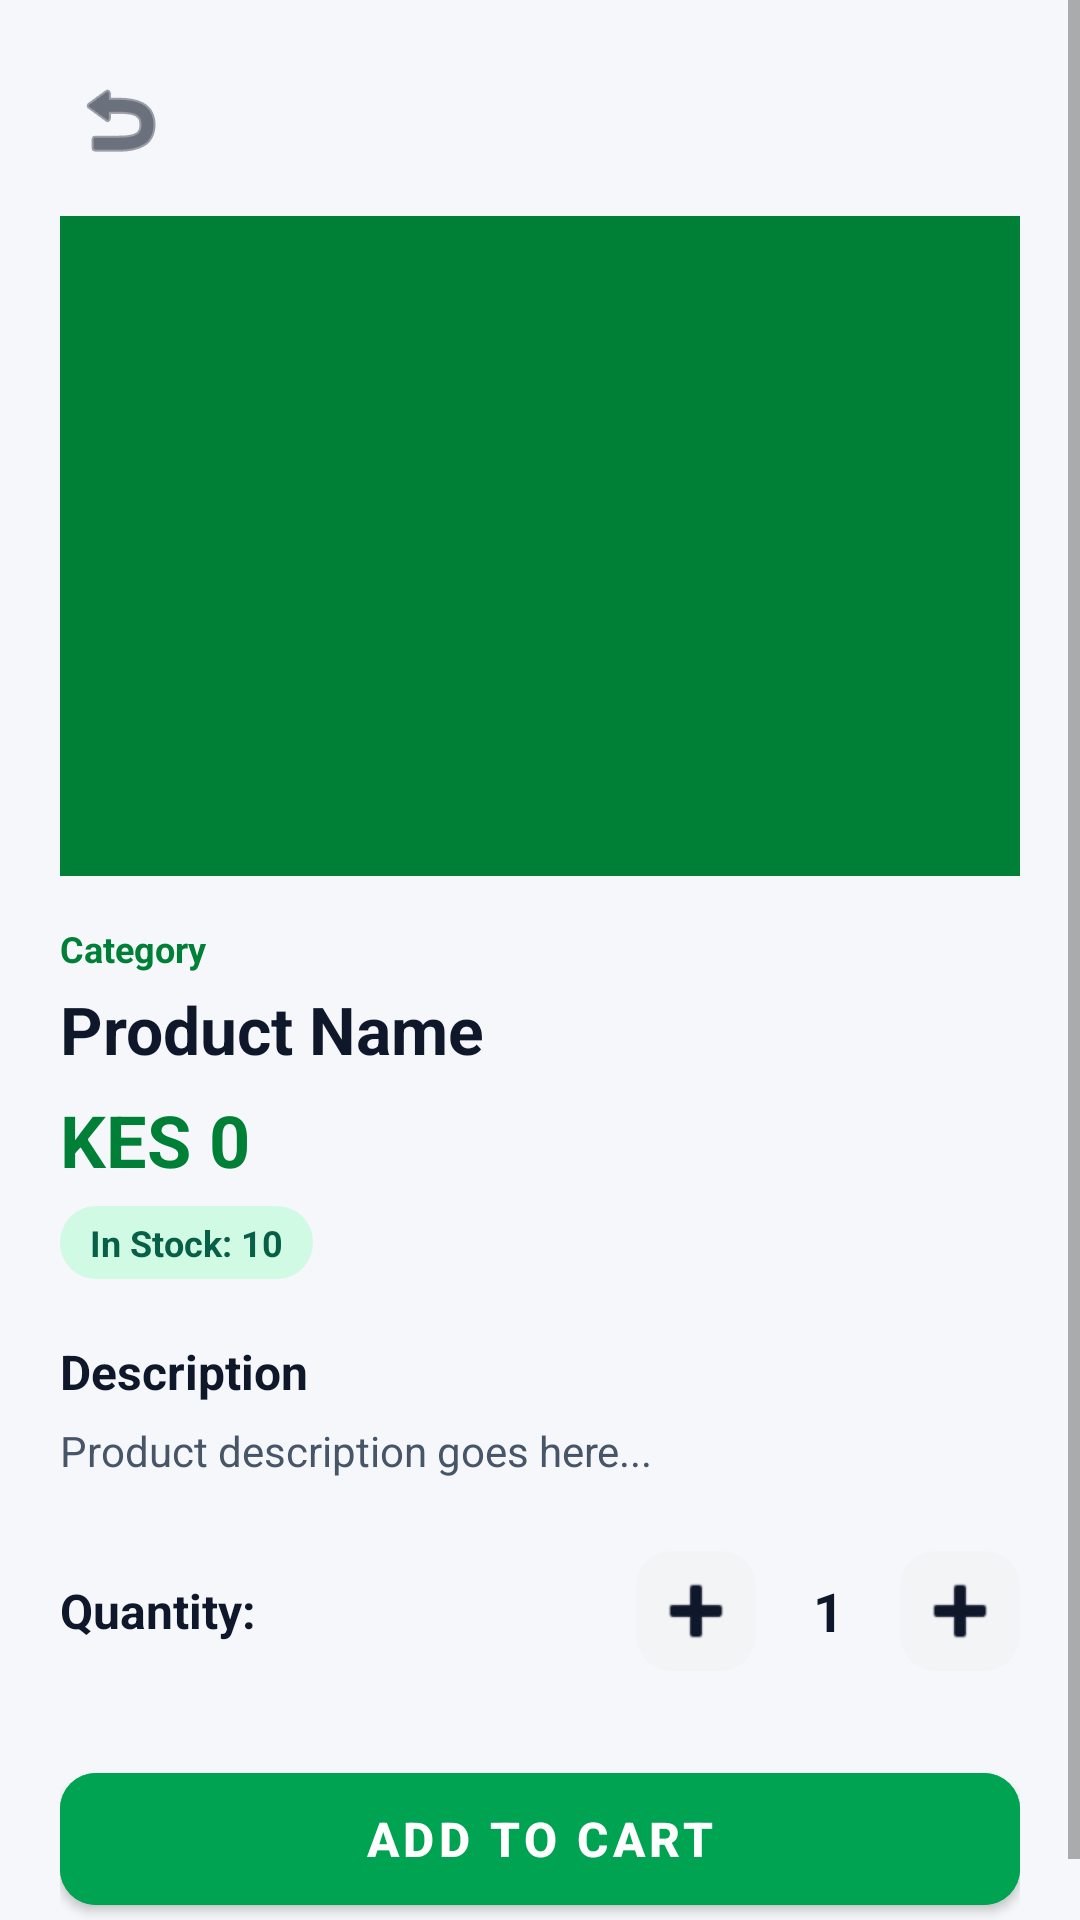

Named icons in this screenshot (1080*1920) and their centers, point (x, y):
Back: point (121, 120)
Increase: point (960, 1611)
